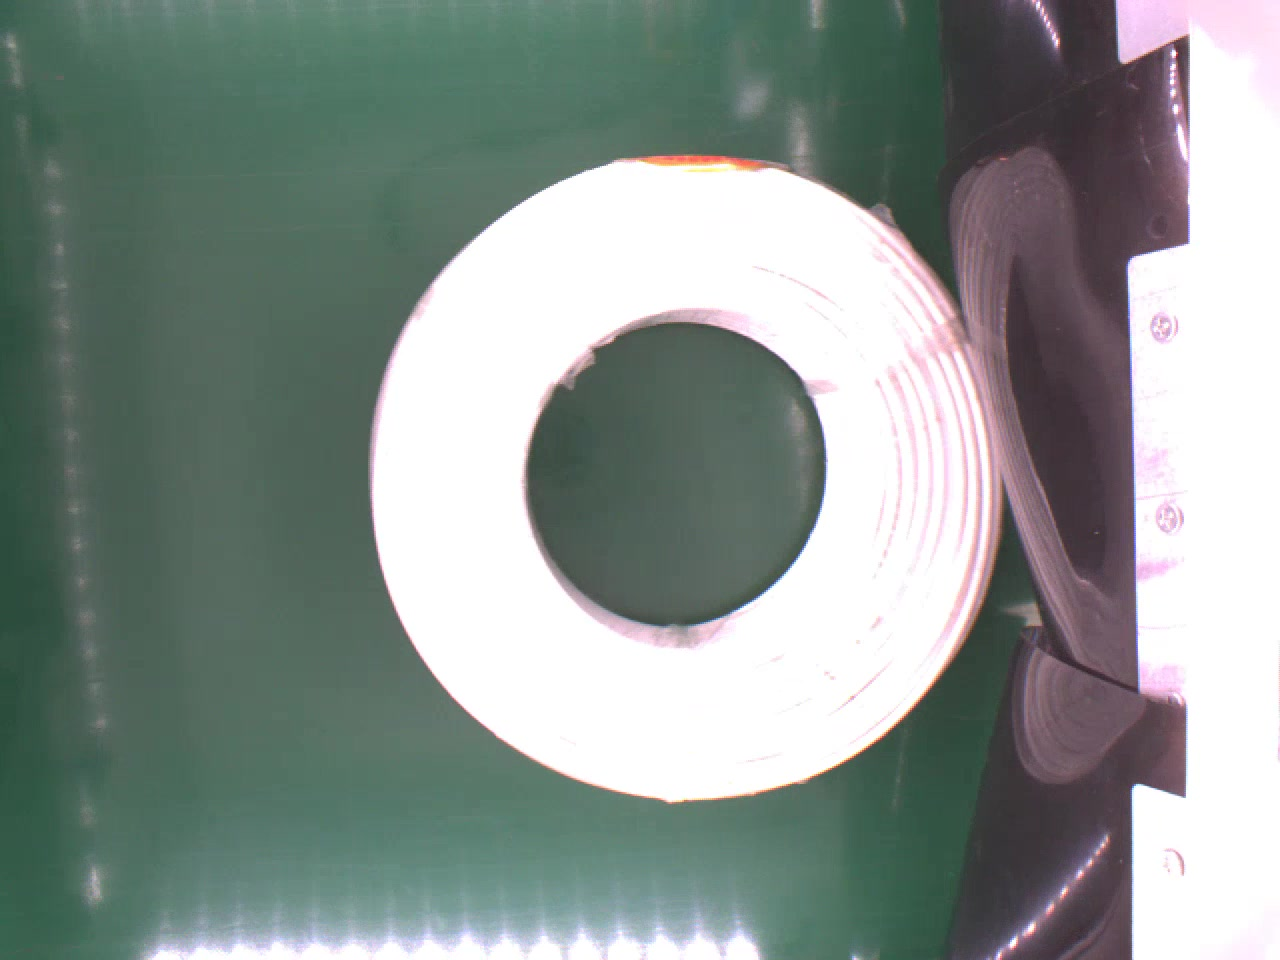white: (369, 149, 1007, 798)
